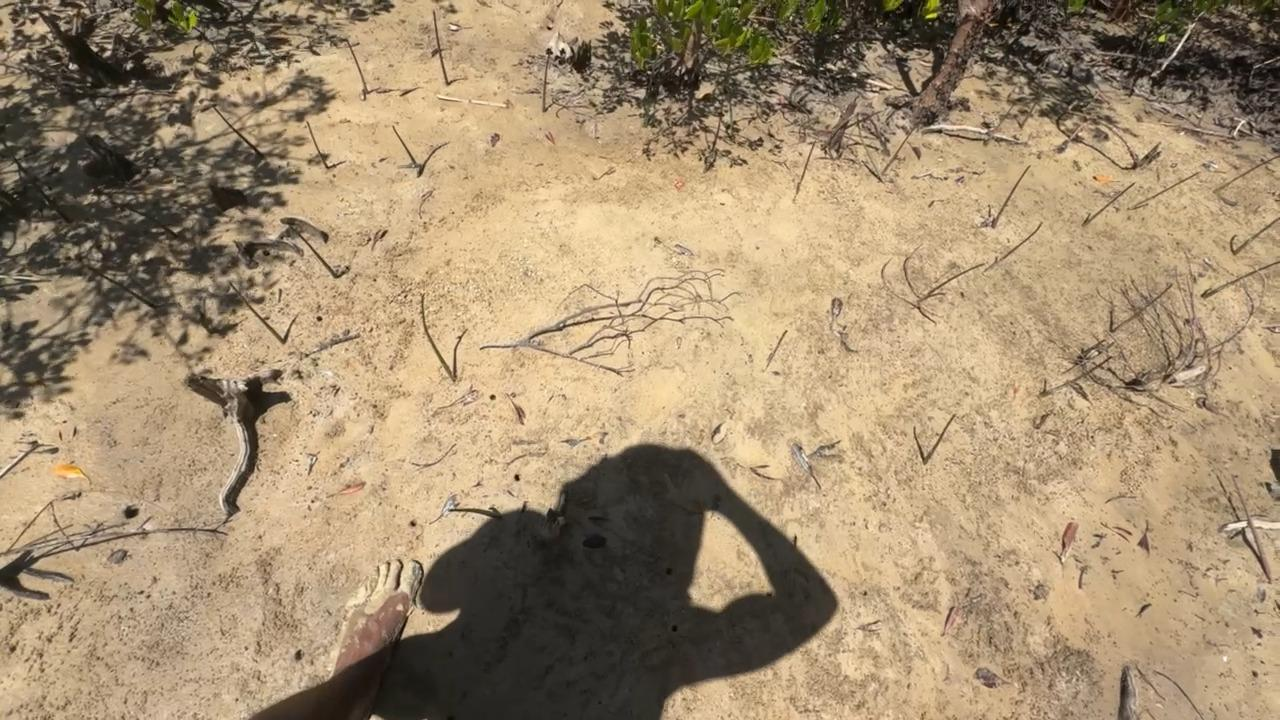Tree: (7, 147, 70, 225), (225, 277, 287, 344), (79, 257, 154, 311), (1038, 354, 1112, 407), (418, 291, 456, 379), (982, 221, 1045, 274), (1110, 281, 1174, 333), (1201, 260, 1280, 300), (107, 193, 178, 237), (212, 102, 267, 158), (1127, 171, 1202, 210), (918, 261, 988, 301), (1212, 153, 1280, 194), (286, 224, 337, 277), (990, 165, 1032, 229), (1082, 182, 1137, 225), (882, 119, 919, 177), (1233, 214, 1280, 258), (857, 114, 883, 185), (980, 99, 1013, 149), (344, 33, 370, 95), (431, 10, 452, 86), (390, 123, 421, 171), (305, 114, 329, 169), (793, 139, 817, 193), (541, 45, 561, 109), (762, 329, 788, 370), (710, 92, 725, 150), (1016, 94, 1039, 128), (913, 426, 927, 463), (174, 321, 175, 322)
